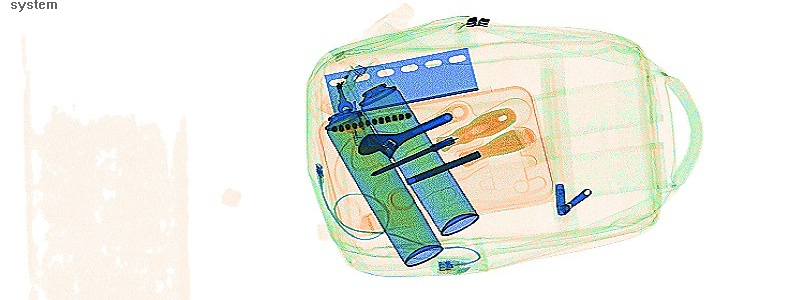lighter: (316, 61, 369, 120)
pressure: (322, 103, 441, 267), (357, 80, 477, 237)
